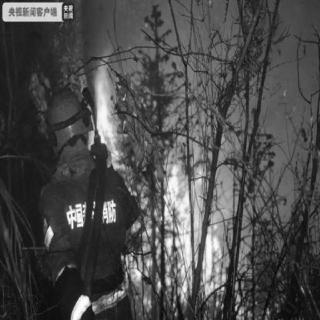Fire: (161, 117, 227, 301), (90, 53, 122, 153)
